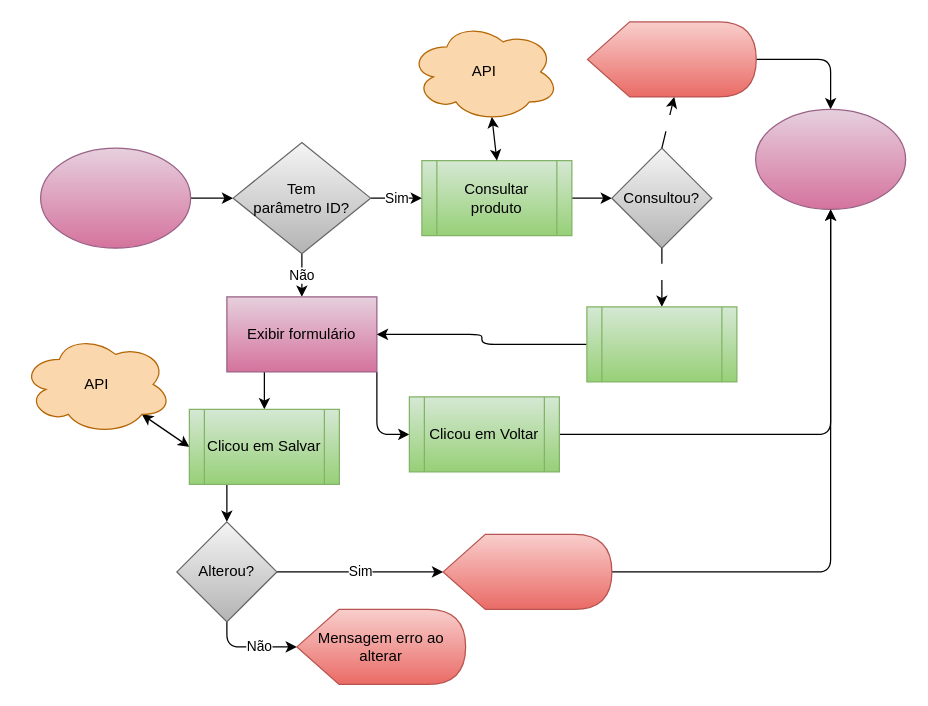
Image size: 928x706. Some labels were removed from this diagram. The shapes that lost their labels are listed below. From the top down, each one's centre as x and y in pixels, then its label:
At point 671,59: "Mensagem erro ao consultar".
At point 830,158: "Navegar p/ Tela Cardápio".
At point 115,197: "Tela Cadastro Produto".
At point 661,344: "Inserir dados do produtos no formulário".
At point 527,571: "Mensagem sucesso ao alterar".
